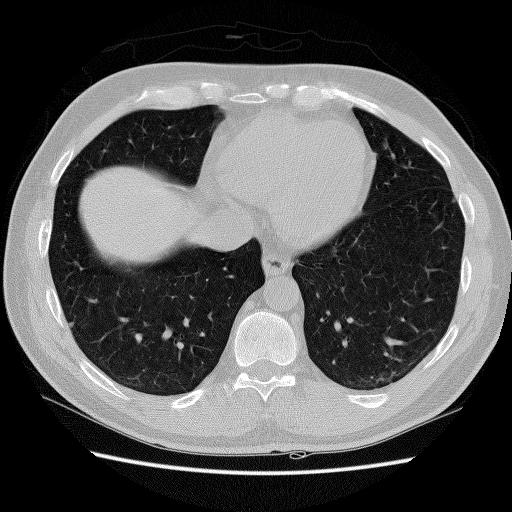nodule: (65, 319, 76, 330)
